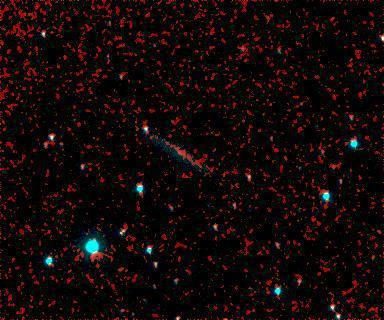star: (194, 245, 224, 275)
